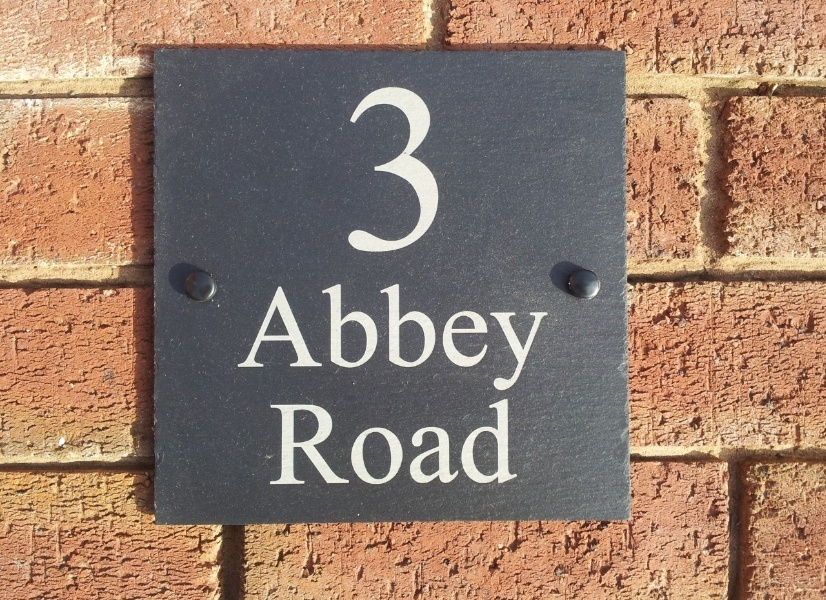text: (353, 85, 368, 254), (369, 85, 384, 254), (385, 85, 400, 254), (401, 85, 416, 254), (417, 85, 432, 254), (241, 280, 256, 395), (257, 280, 272, 395), (273, 280, 288, 395), (289, 280, 304, 395), (305, 280, 320, 395), (321, 280, 336, 395), (337, 280, 352, 395), (353, 280, 368, 395), (369, 280, 384, 395), (385, 280, 400, 395), (401, 280, 416, 395), (417, 280, 432, 395), (433, 280, 448, 395), (449, 280, 464, 395), (465, 280, 480, 395), (481, 280, 496, 395), (497, 280, 512, 395), (513, 280, 528, 395), (529, 280, 544, 395), (545, 280, 559, 395), (433, 85, 441, 254), (273, 398, 288, 487), (289, 398, 304, 487), (305, 398, 320, 487), (321, 398, 336, 487), (337, 398, 352, 487), (353, 398, 368, 487), (369, 398, 384, 487), (385, 398, 400, 487), (401, 398, 416, 487), (417, 398, 432, 487), (433, 398, 448, 487), (449, 398, 464, 487), (465, 398, 480, 487), (481, 398, 496, 487), (497, 398, 512, 487), (347, 85, 352, 254), (513, 398, 521, 487), (236, 280, 240, 395), (270, 398, 272, 487)
